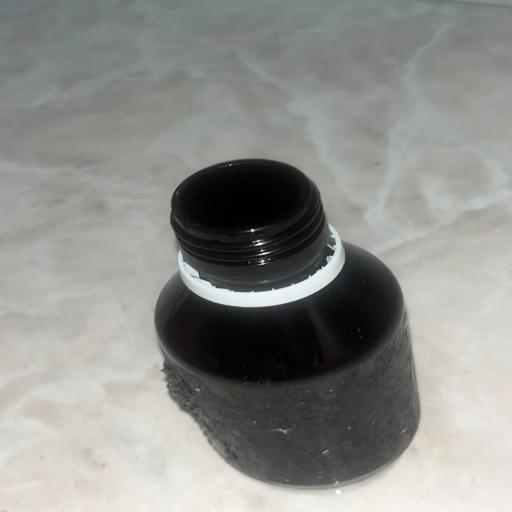HDPE: (96, 168, 480, 512)
